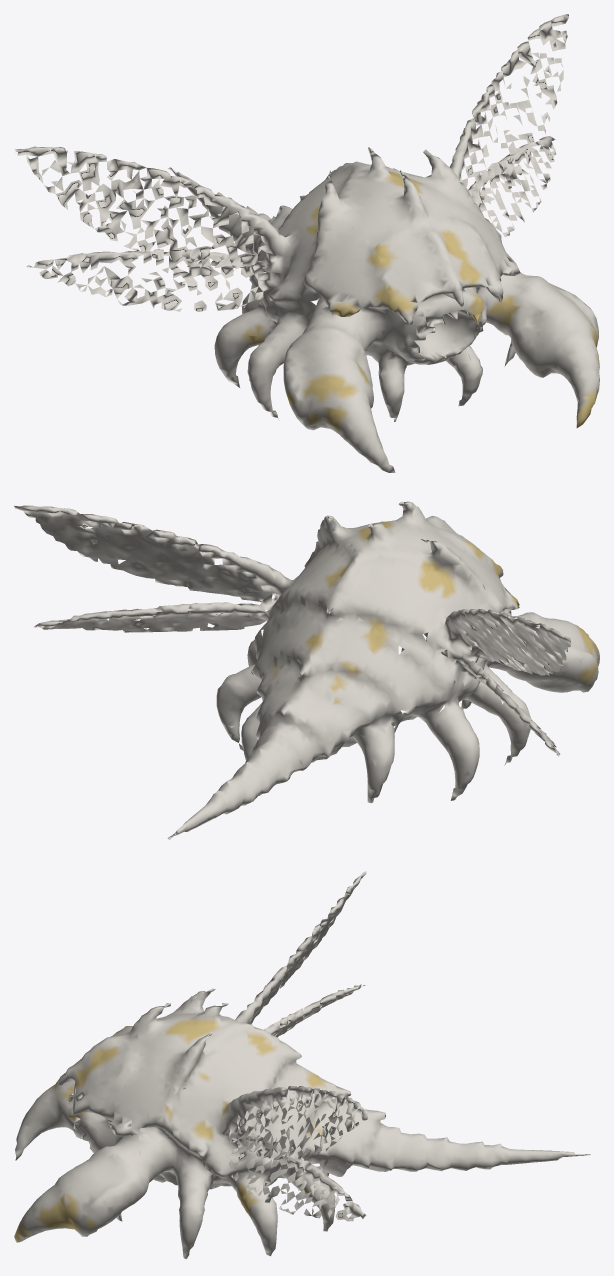
The model's file is mon3d_lo.glb.
The picture shows the model from 3 angles, top to bottom: view 1: azimuth 30°, elevation 25°; view 2: azimuth 150°, elevation 25°; view 3: azimuth 270°, elevation 25°; orthographic projection. The views are drawn at different scales.
Bounding box in the file's own units: 1.93 × 0.81 × 1.94.
